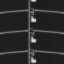dust: (30, 29, 33, 32)
